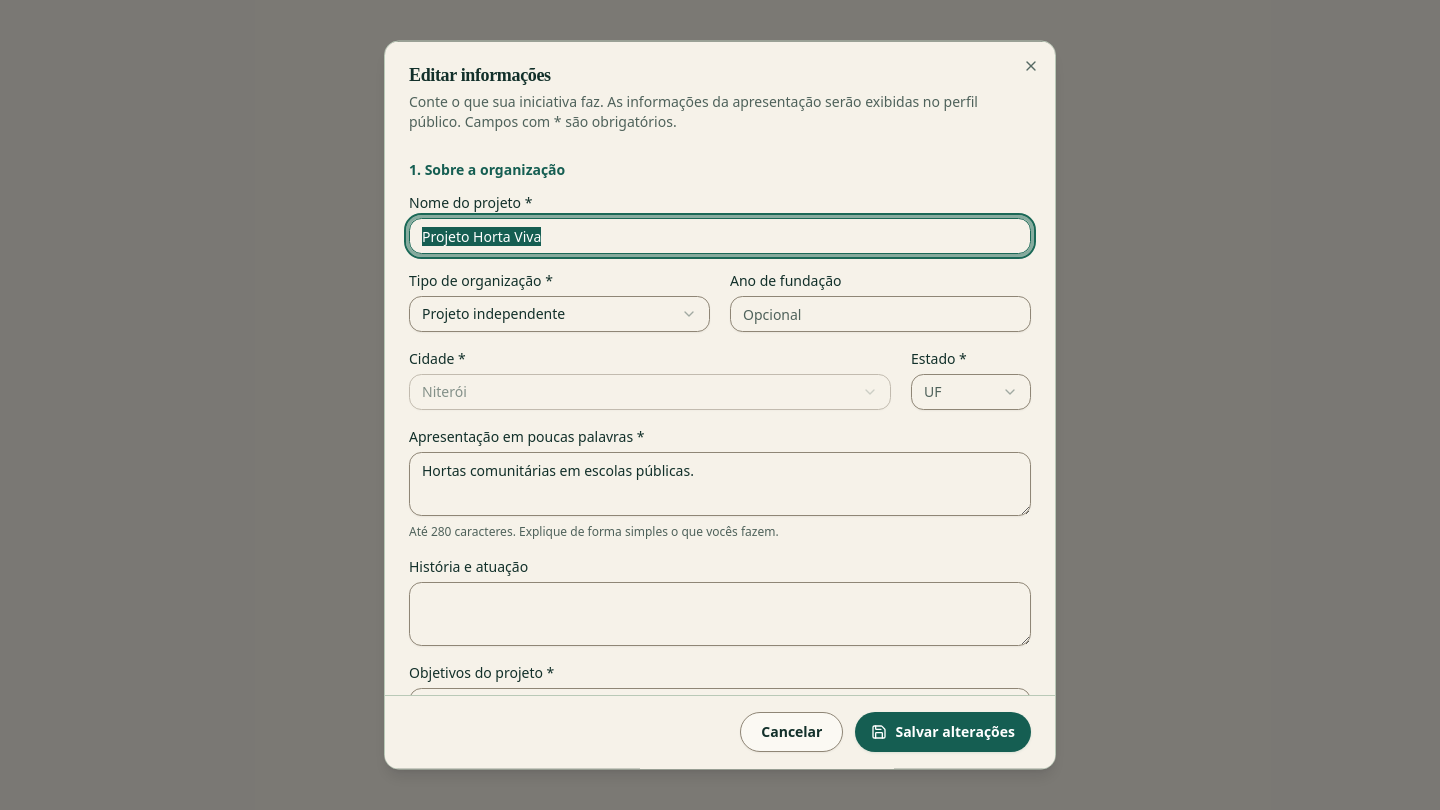
editor de organização › sem Estado, marca o campo, mostra o erro nele e leva o foco até ele
This screenshot has width=1440, height=810.
Click the button "Salvar alterações".
click(943, 732)  # box [855,712,1031,752]
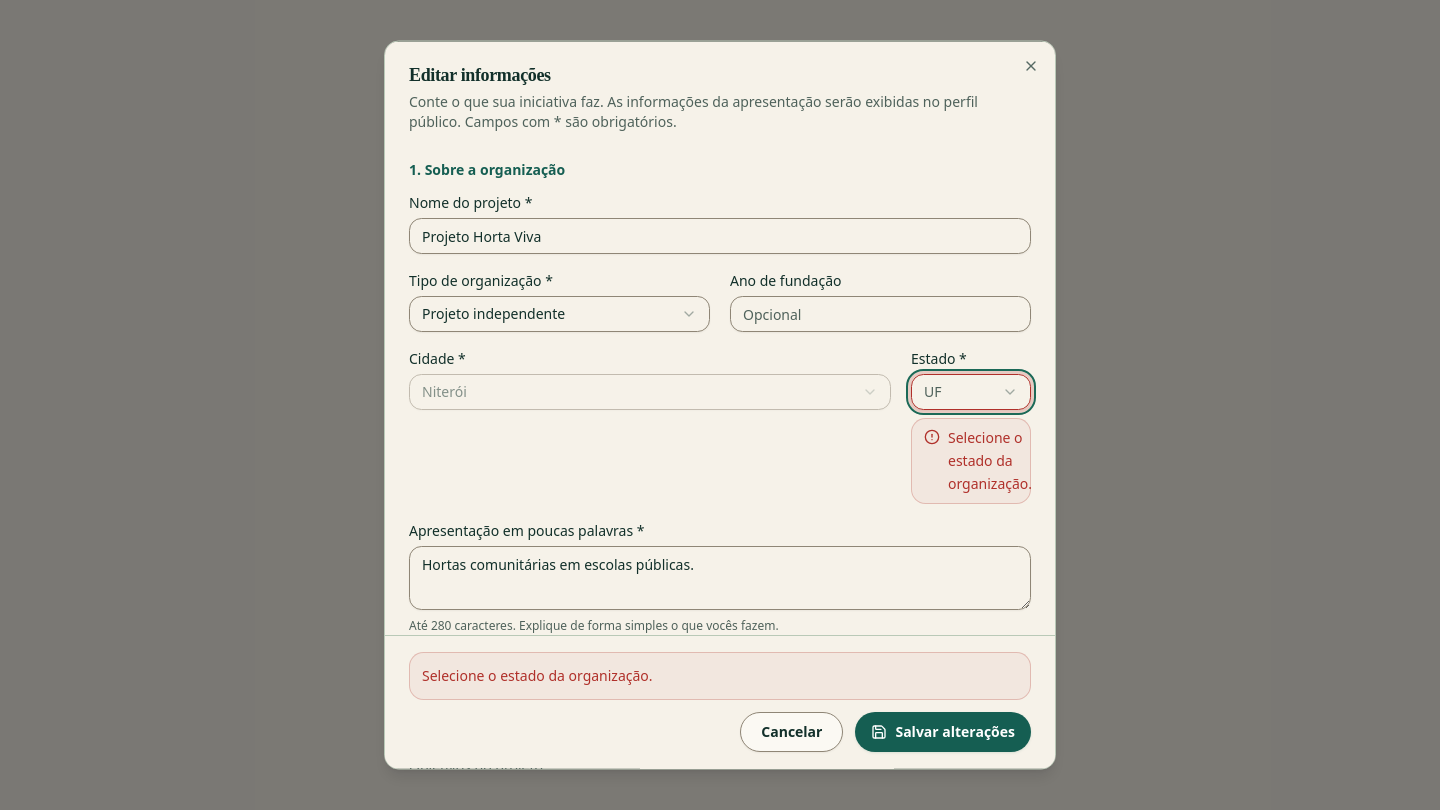
expect the message reads "Selecione o estado da organização.": met, box [422,666,653,685]
